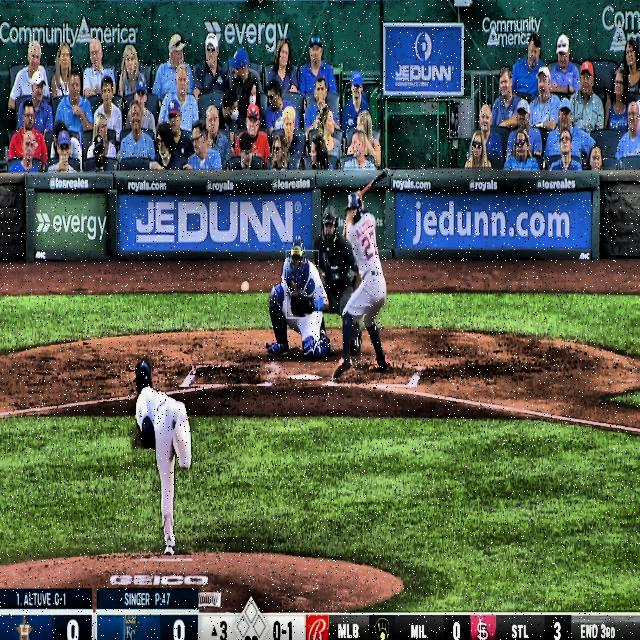baseball: (241, 280, 249, 294)
